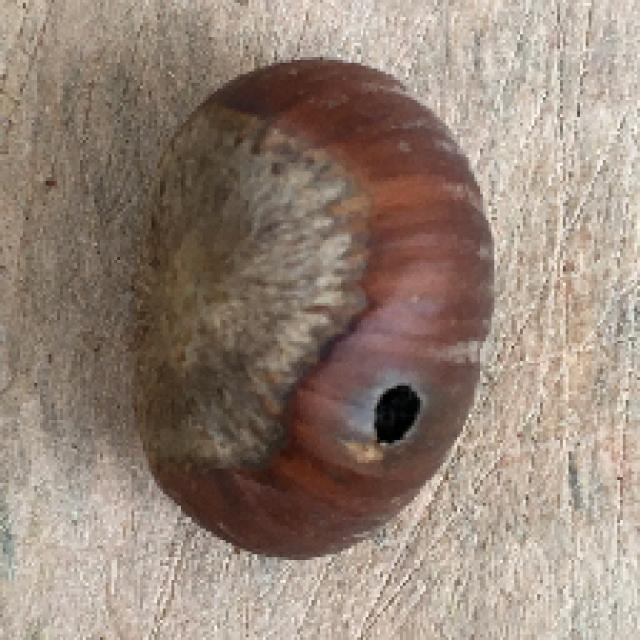damagedHazelnut: (119, 51, 513, 567)
